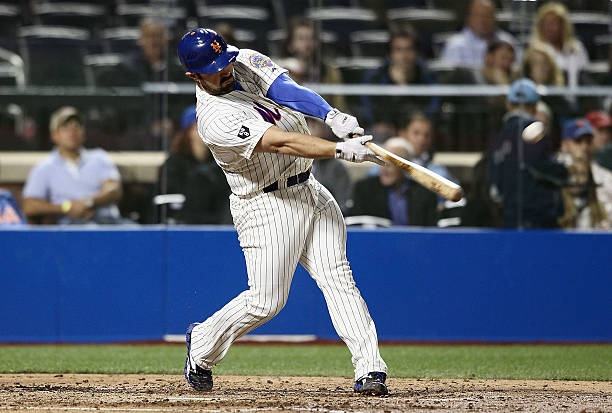bita: (360, 144, 464, 201)
